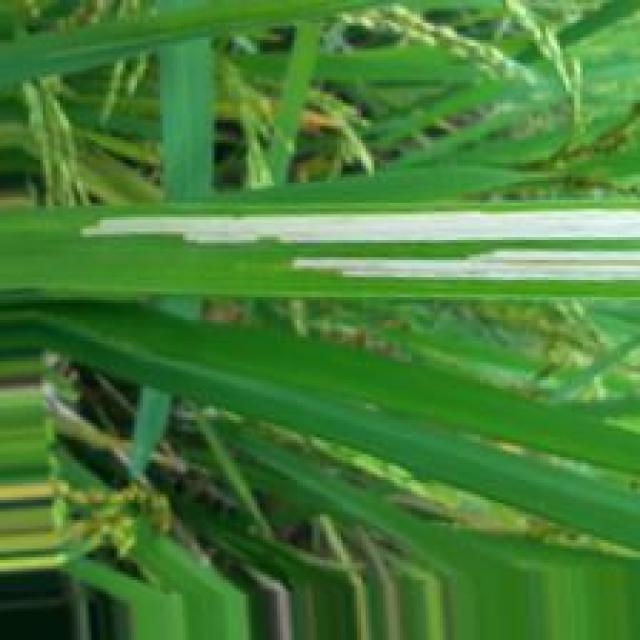Rice_Hispa: (77, 205, 640, 245), (278, 249, 640, 280)
